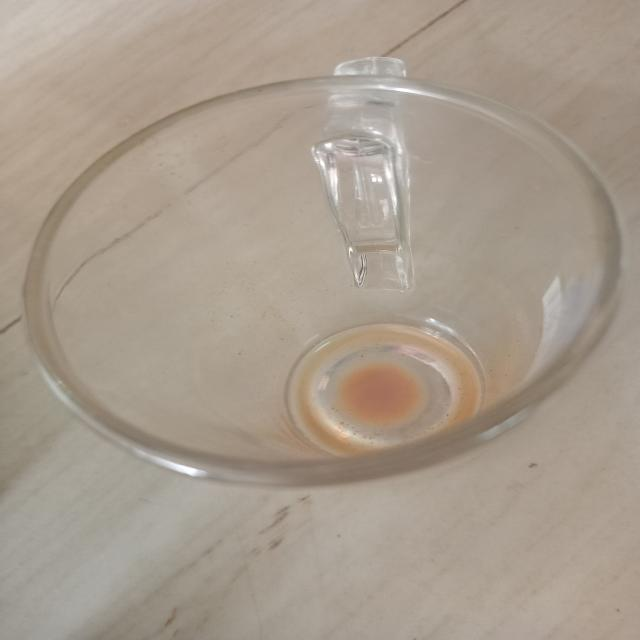glass-VX4N: (27, 60, 625, 498)
